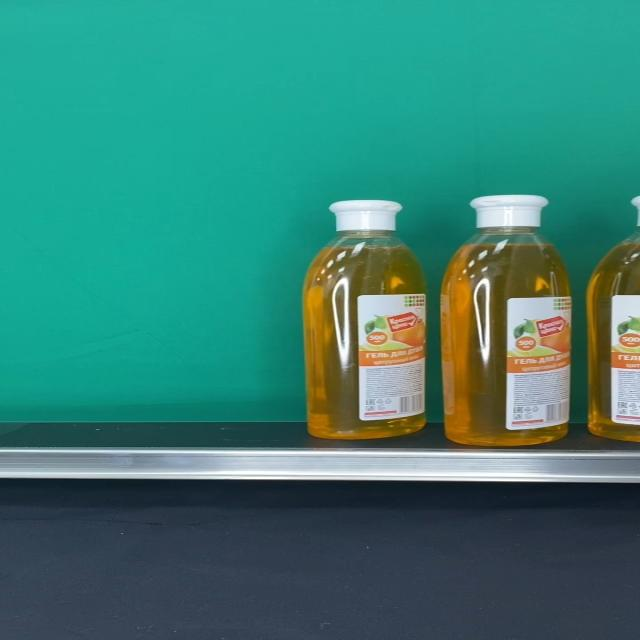Bottle: (441, 195, 572, 445), (302, 200, 427, 440)
Cap: (468, 195, 550, 228), (329, 200, 403, 230)
